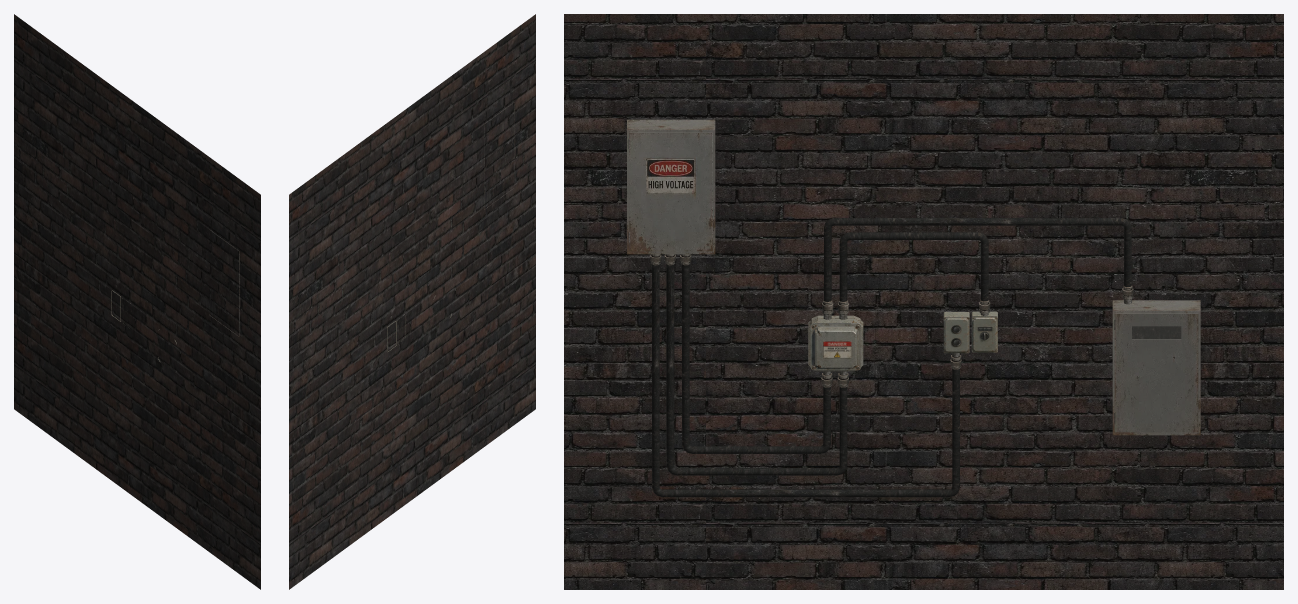
The model's file is electrical_wall.glb.
The picture shows the model from 3 angles, left to right: view 1: azimuth 30°, elevation 25°; view 2: azimuth 150°, elevation 25°; view 3: azimuth 270°, elevation 25°; orthographic projection. The views are drawn at different scales.
Visible parts, largest first — view 1: WallTest; view 2: WallTest; view 3: WallTest, OneMeshBoxHGVoltage.001, OneMeshBoxGlassFrame.001, SmallBoxHGVoltage, 1M, 1m.002, 1m.001, Curved cable.005, Curved cable.003, 1m.003, Curved cable.002, Curved cable.010 (+8 smaller).
Part boxes in pixels (x1,y1,x2,y2): WallTest: [14, 14, 260, 589]; WallTest: [289, 14, 535, 589]; WallTest: [564, 14, 1283, 589]; OneMeshBoxHGVoltage.001: [627, 119, 715, 254]; OneMeshBoxGlassFrame.001: [1112, 300, 1200, 435]; SmallBoxHGVoltage: [808, 315, 863, 371]; 1M: [726, 489, 885, 497]; 1m.002: [666, 264, 674, 409]; 1m.001: [898, 218, 1057, 225]; Curved cable.005: [885, 422, 959, 497]; Curved cable.003: [772, 401, 847, 475]; 1m.003: [652, 264, 659, 409]; Curved cable.002: [839, 232, 913, 301]; Curved cable.010: [652, 430, 726, 497].
Size of the model in its own units: 0.1316 by 3.2 by 3.62.
6 materials, 6 textured.
